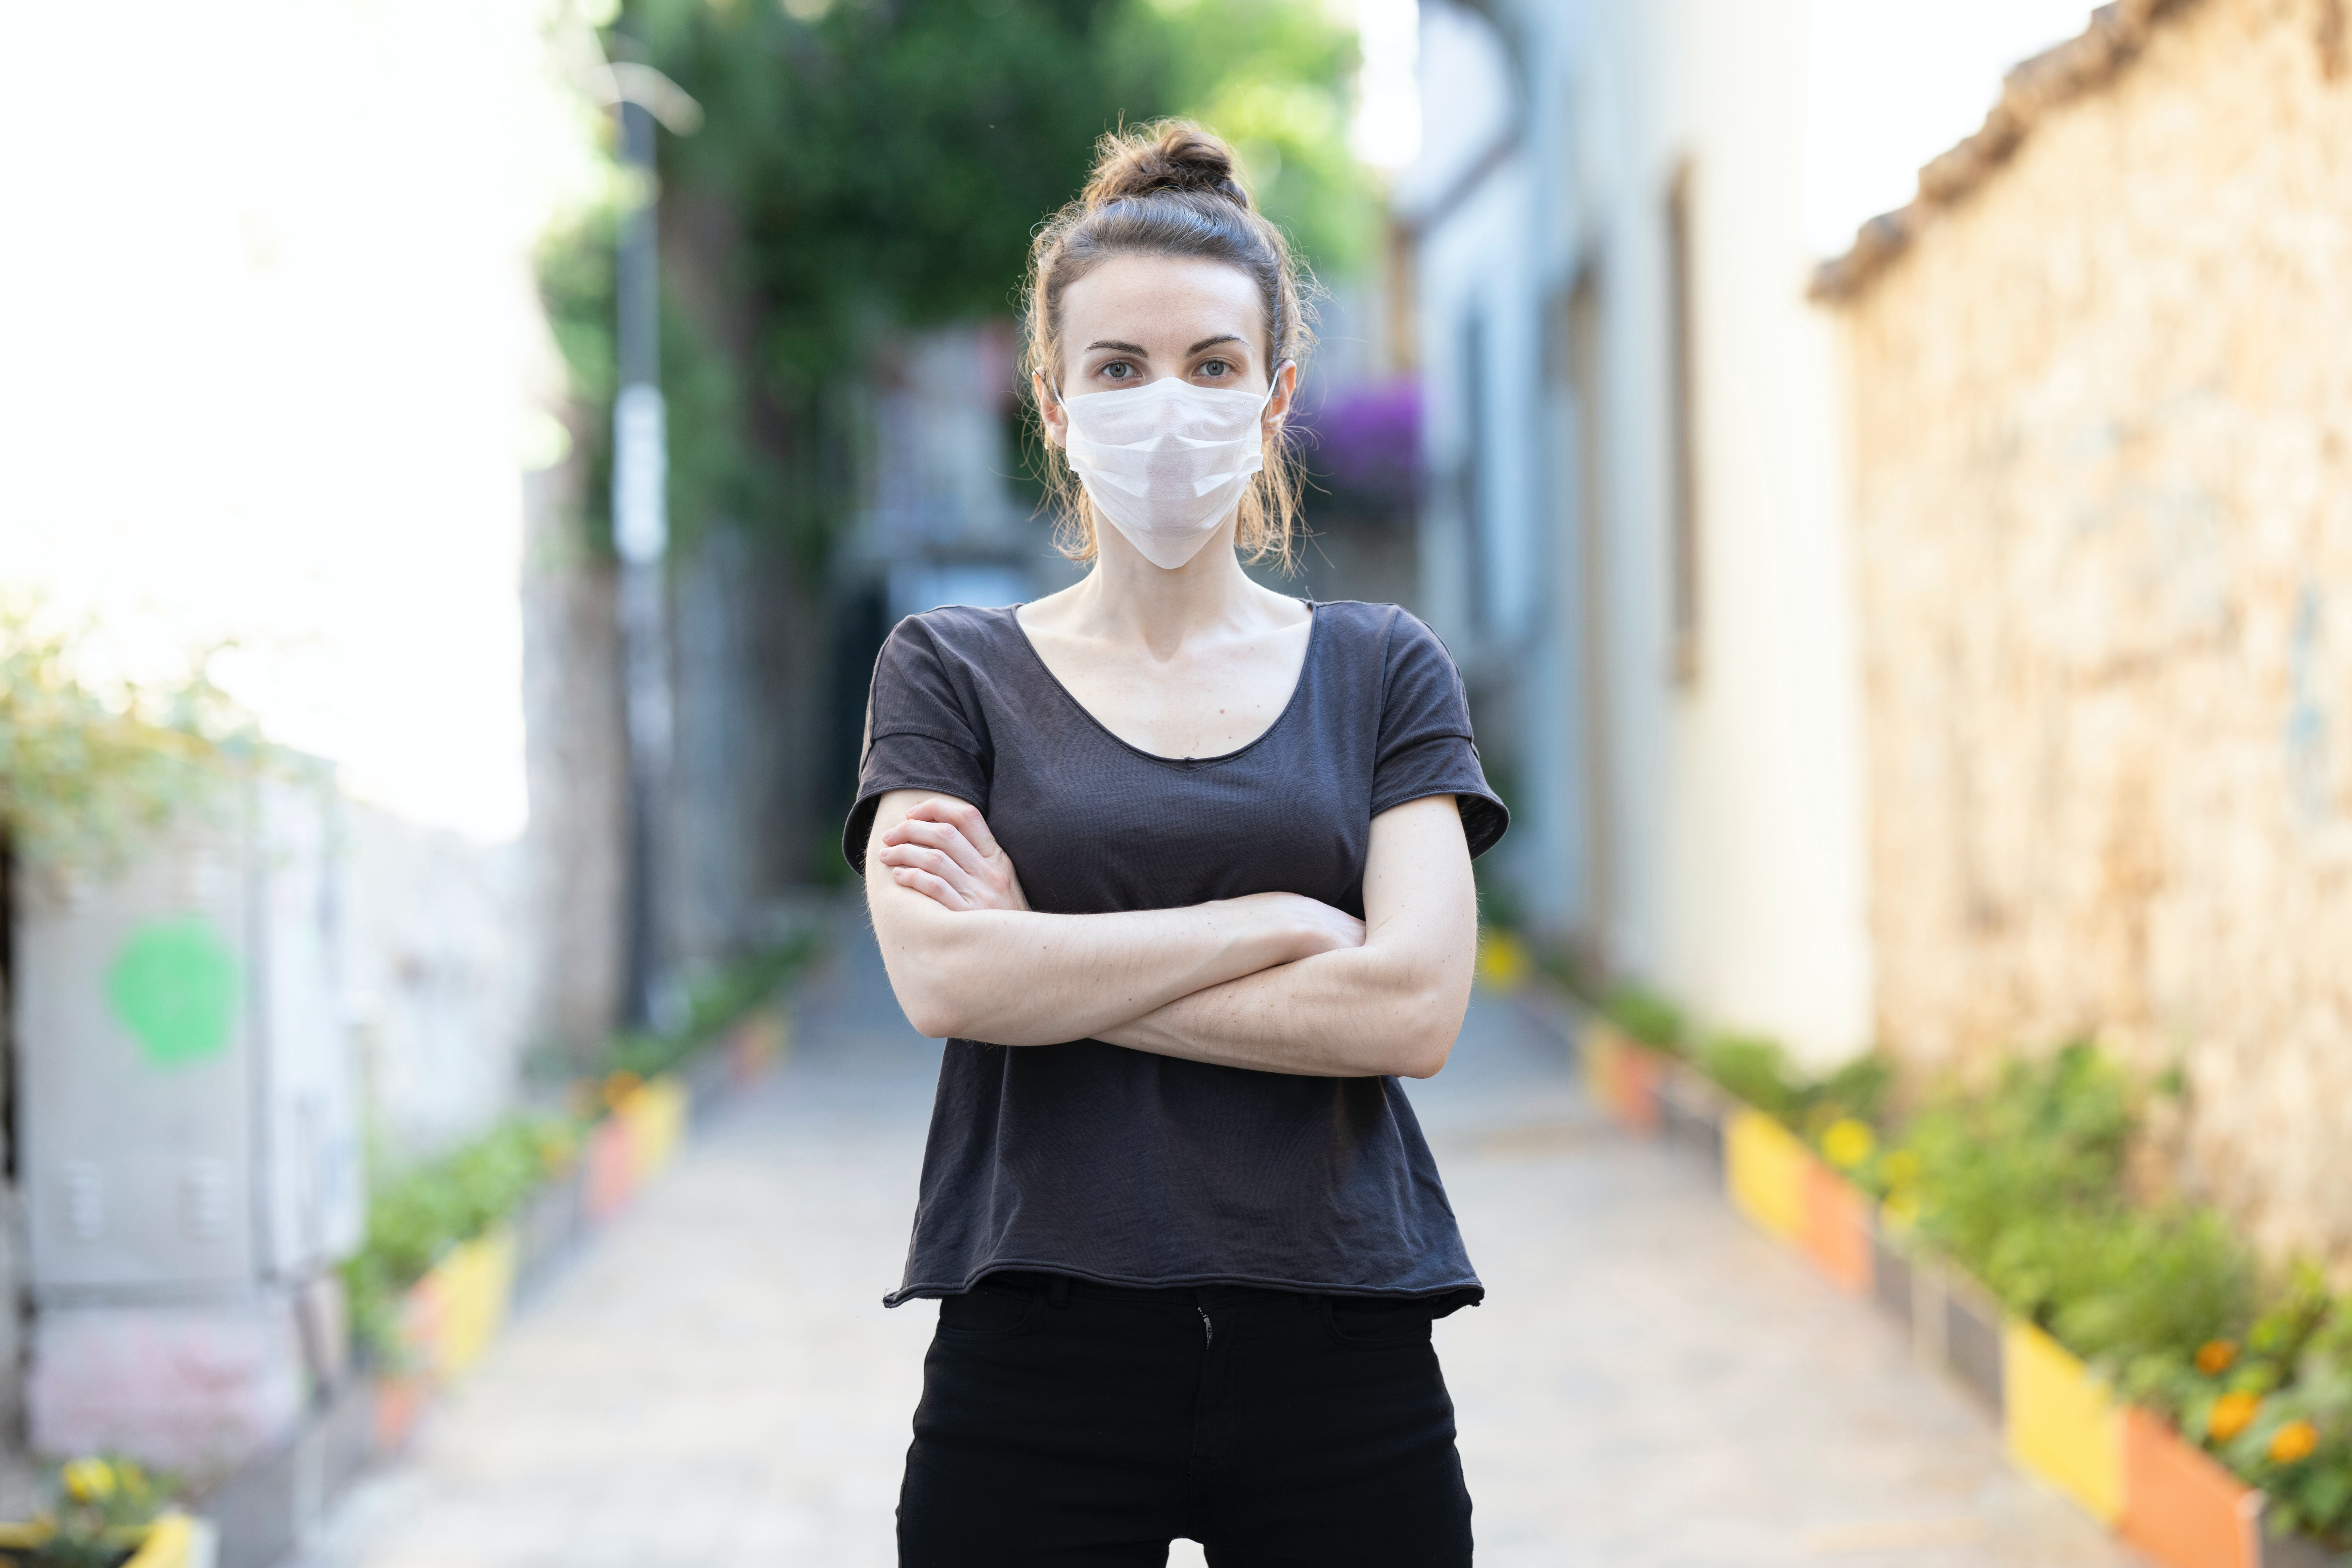mask: (1038, 382, 1276, 568)
person: (850, 125, 1508, 1568)
